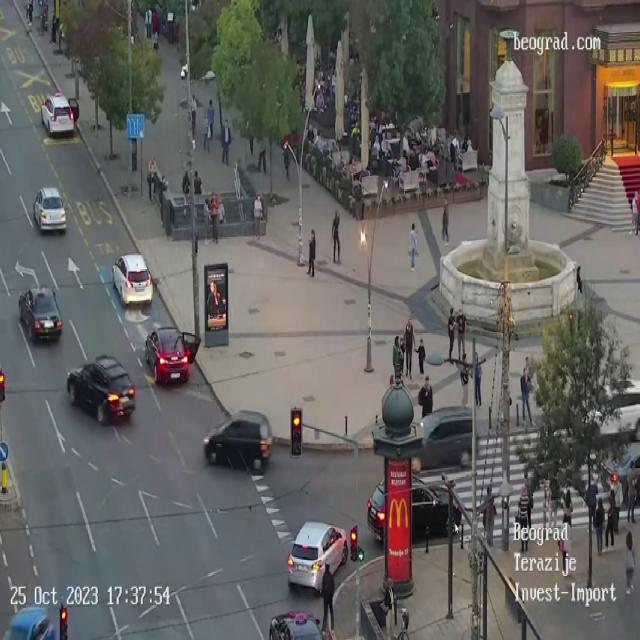car: (366, 475, 461, 539), (66, 354, 136, 426), (286, 520, 348, 594), (406, 406, 480, 468), (203, 410, 272, 472), (578, 377, 640, 439), (145, 326, 201, 385), (18, 286, 62, 342), (112, 253, 153, 308), (2, 604, 58, 640), (604, 448, 640, 496), (33, 186, 67, 234), (268, 610, 322, 640), (43, 90, 74, 133)
